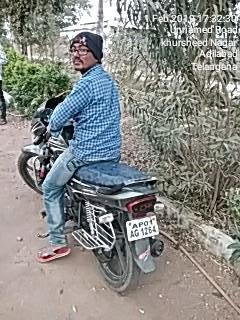plate: (125, 215, 162, 244)
